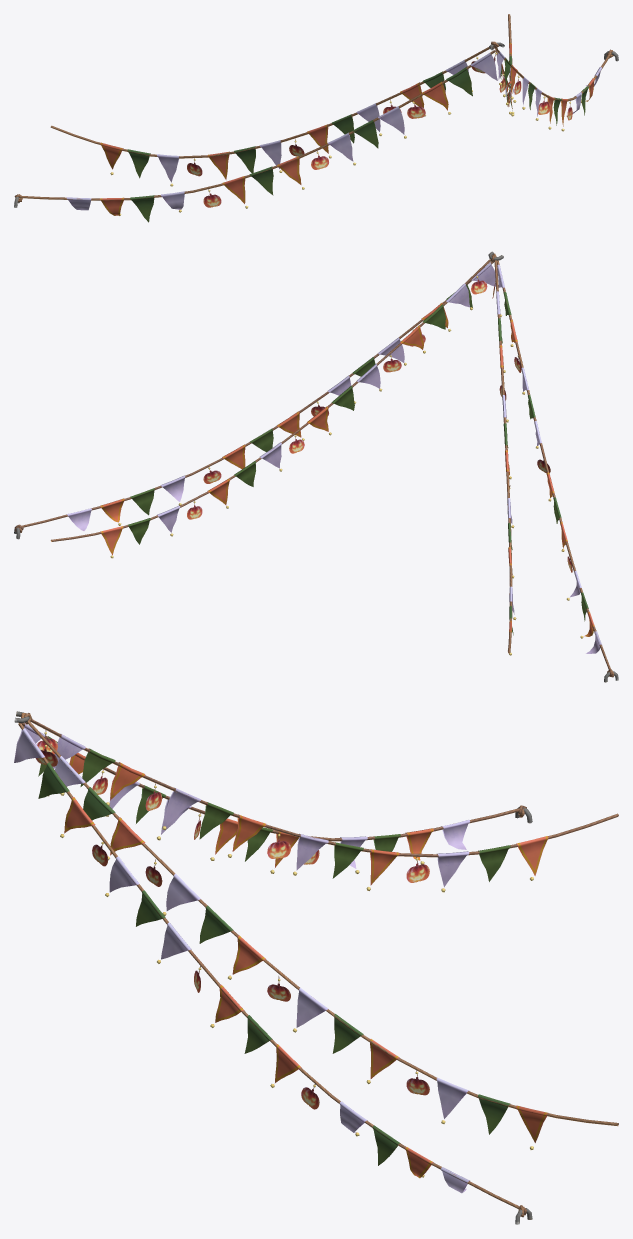
Rendered from pref_sm_beach_WSJ_decorate_light01_c_lv3.fbx.
3 views of the same model, one above another, from view 1: azimuth 30°, elevation 25°; view 2: azimuth 150°, elevation 25°; view 3: azimuth 270°, elevation 25° (orthographic). The views are drawn at different scales.
Parts seen in each view (by area): view 1: pref_sm_beach_WSJ_decorate_light01_c_lv3; view 2: pref_sm_beach_WSJ_decorate_light01_c_lv3; view 3: pref_sm_beach_WSJ_decorate_light01_c_lv3.
Part boxes in pixels (<box>): pref_sm_beach_WSJ_decorate_light01_c_lv3: <box>14,14,618,222</box>; pref_sm_beach_WSJ_decorate_light01_c_lv3: <box>14,251,618,682</box>; pref_sm_beach_WSJ_decorate_light01_c_lv3: <box>14,711,618,1224</box>.
Bounding box in the file's own units: 32.01 × 11.27 × 20.02.
